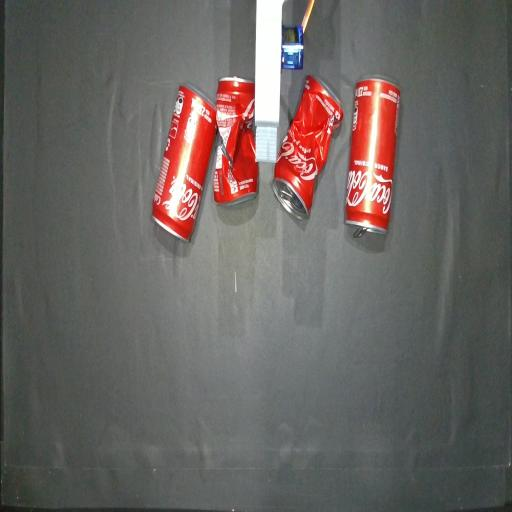lata: (152, 85, 216, 240), (345, 78, 401, 237)
lata_defectuoso: (272, 75, 342, 218), (213, 76, 269, 205)
